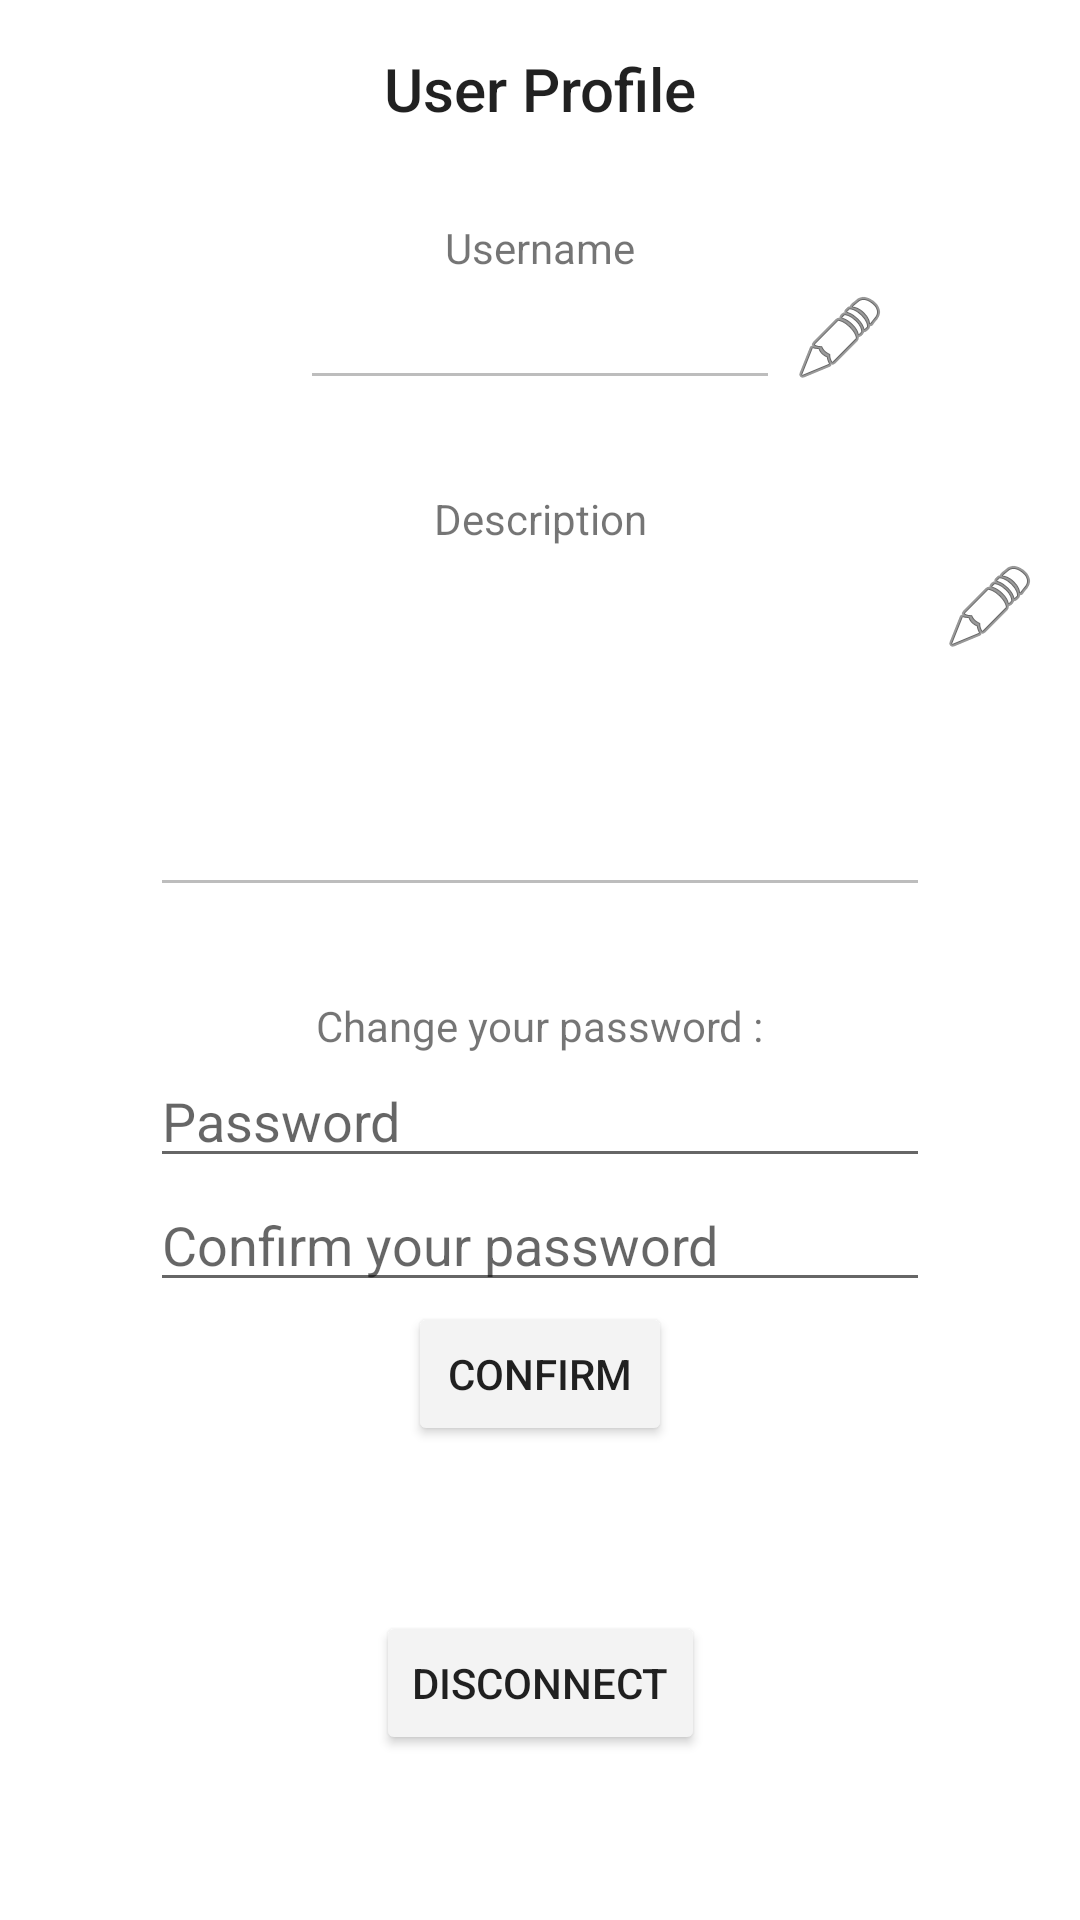

Named icons in this screenshot (1080px×1920px) and their bounding boxes, (x1, y1, x2, y2):
edit: (799, 297, 880, 378), (949, 566, 1030, 647)
